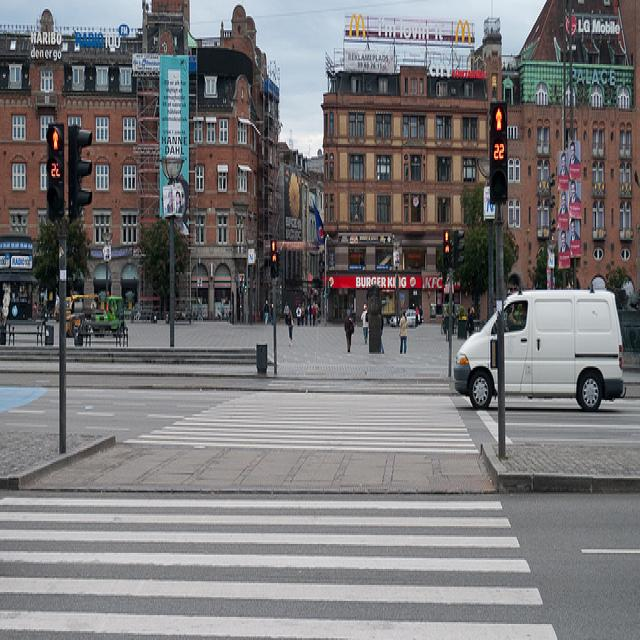Vehicle: (452, 286, 624, 410), (456, 292, 628, 414), (90, 296, 124, 322), (54, 291, 74, 325), (389, 309, 421, 328)
